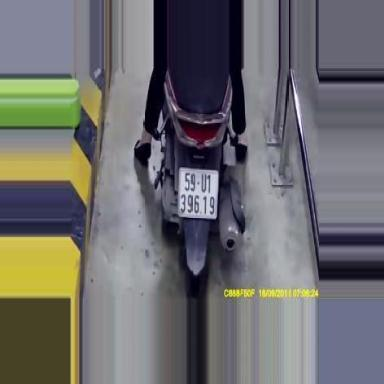License_Plate: (175, 162, 223, 223)
